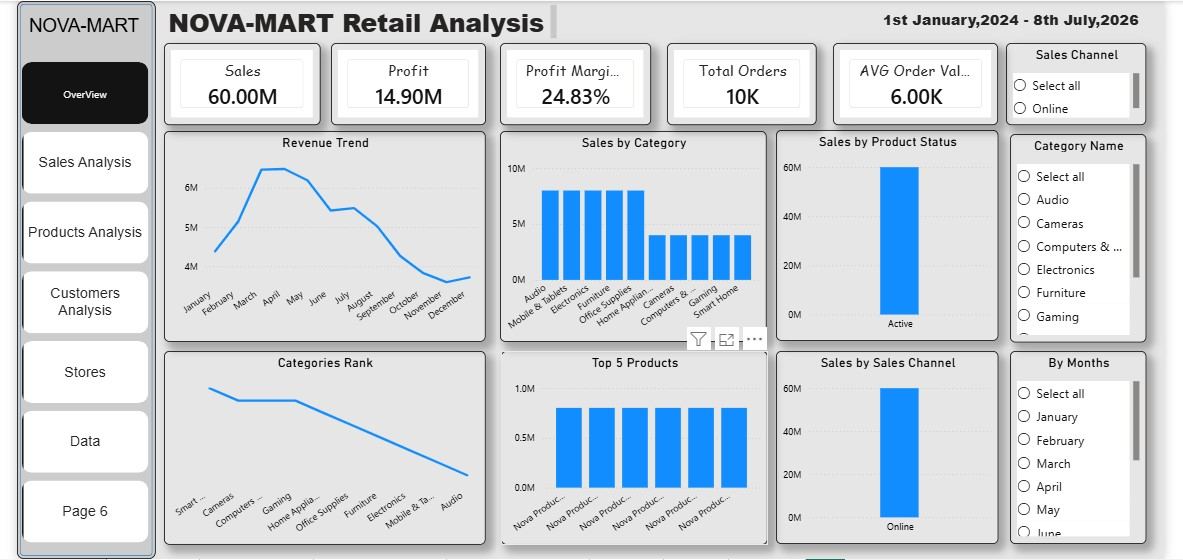

Layout of this report page (visuals, bound fields, positions):
{"tool":"powerbi","page":{"name":"OverView","canvas":[1480,720],"ordinal":0},"visuals":[{"type":"shape","box":[0,0,179,720],"z":0},{"type":"textbox","box":[10.1,13.4,190.3,63.9],"z":1000},{"type":"pageNavigator","box":[6.7,79,163,623.3],"z":2000},{"type":"textbox","box":[179.8,0,522.5,53.8],"z":3000},{"type":"cardVisual","fields":{"Data":["_Measures.Profit Margin %"]},"box":[623.2,53.8,194.9,105.8],"z":4000},{"type":"cardVisual","fields":{"Data":["_Measures.Sales"]},"box":[189.8,53.8,201.6,105.8],"z":5000},{"type":"cardVisual","fields":{"Data":["_Measures.Profit"]},"box":[404.9,53.8,199.9,105.8],"z":6000},{"type":"cardVisual","title":"Orders","fields":{"Data":["_Measures.Total Orders"]},"box":[838.3,53.8,193.2,105.8],"z":7000},{"type":"cardVisual","fields":{"Data":["_Measures.Average Order Value"]},"box":[1053.3,53.8,213.3,105.8],"z":8000},{"type":"lineChart","title":"Revenue Trend","fields":{"Category":["Dim Date.MonthName"],"Y":["_Measures.Sales"]},"box":[189.8,168,415.3,272.1],"z":9000},{"type":"clusteredColumnChart","title":"Sales by Sales Channel","fields":{"Category":["Fact Sales.SalesChannel"],"Y":["_Measures.Sales"]},"box":[979.4,451.9,287.3,248.6],"z":10000},{"type":"columnChart","title":"Sales by Category","fields":{"Category":["Dim Product.CategoryName"],"Y":["_Measures.Sales"]},"box":[623.2,168,344.4,272.1],"z":11000},{"type":"columnChart","title":"Top 5 Products","fields":{"Category":["Dim Product.ProductName"],"Y":["_Measures.Sales"]},"box":[624.9,451.9,344.4,250.3],"z":12000},{"type":"listSlicer","title":"Sales Channel","fields":{"Values":["Fact Sales.SalesChannel"]},"box":[1276.7,53.8,181.4,105.8],"z":13000},{"type":"listSlicer","title":"By Months ","fields":{"Values":["Dim Date.MonthName"]},"box":[1281.8,451.9,176.4,248.6],"z":14000},{"type":"listSlicer","title":"Category Name","fields":{"Values":["Dim Product.CategoryName"]},"box":[1281.8,171.4,176.4,268.8],"z":15000},{"type":"columnChart","title":"Sales by Product Status","fields":{"Y":["_Measures.Sales"],"Category":["Dim Product.ProductStatus"]},"box":[979.4,166.3,287.3,272.1],"z":16000},{"type":"lineChart","title":"Categories Rank ","fields":{"Category":["Dim Product.CategoryName"],"Y":["_Measures.Categories Rank"]},"box":[189.8,451.9,414.9,250.3],"z":17000},{"type":"textbox","box":[1112.1,5,367.9,40.3],"z":17001}]}

Visuals, with their boxes in screenshot pixels (x1, y1, x2, y2):
shape: {"x1": 18, "y1": 0, "x2": 156, "y2": 553}
textbox: {"x1": 26, "y1": 10, "x2": 172, "y2": 59}
pageNavigator: {"x1": 24, "y1": 61, "x2": 149, "y2": 539}
textbox: {"x1": 157, "y1": 0, "x2": 558, "y2": 41}
cardVisual - _Measures.Profit Margin %: {"x1": 497, "y1": 41, "x2": 647, "y2": 123}
cardVisual - _Measures.Sales: {"x1": 164, "y1": 41, "x2": 319, "y2": 123}
cardVisual - _Measures.Profit: {"x1": 329, "y1": 41, "x2": 483, "y2": 123}
"Orders" cardVisual: {"x1": 662, "y1": 41, "x2": 811, "y2": 123}
cardVisual - _Measures.Average Order Value: {"x1": 827, "y1": 41, "x2": 991, "y2": 123}
"Revenue Trend" lineChart: {"x1": 164, "y1": 129, "x2": 483, "y2": 338}
"Sales by Sales Channel" clusteredColumnChart: {"x1": 771, "y1": 347, "x2": 991, "y2": 538}
"Sales by Category" columnChart: {"x1": 497, "y1": 129, "x2": 762, "y2": 338}
"Top 5 Products" columnChart: {"x1": 498, "y1": 347, "x2": 763, "y2": 539}
"Sales Channel" listSlicer: {"x1": 999, "y1": 41, "x2": 1138, "y2": 123}
"By Months " listSlicer: {"x1": 1003, "y1": 347, "x2": 1138, "y2": 538}
"Category Name" listSlicer: {"x1": 1003, "y1": 132, "x2": 1138, "y2": 338}
"Sales by Product Status" columnChart: {"x1": 771, "y1": 128, "x2": 991, "y2": 337}
"Categories Rank " lineChart: {"x1": 164, "y1": 347, "x2": 483, "y2": 539}
textbox: {"x1": 873, "y1": 4, "x2": 1155, "y2": 35}
